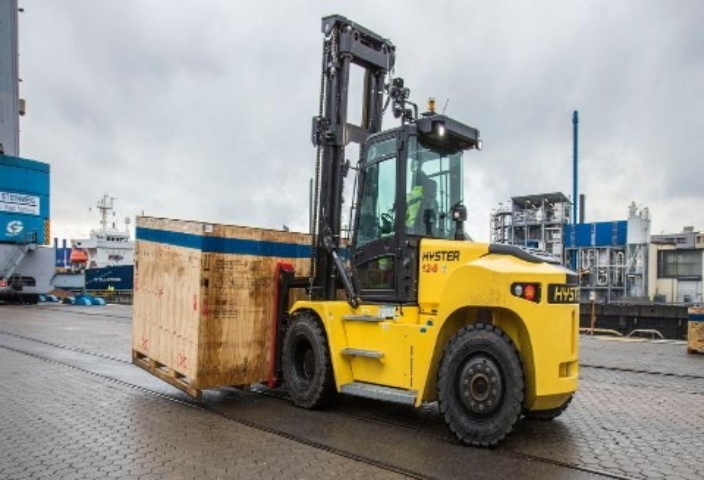industrial: (83, 10, 606, 450)
